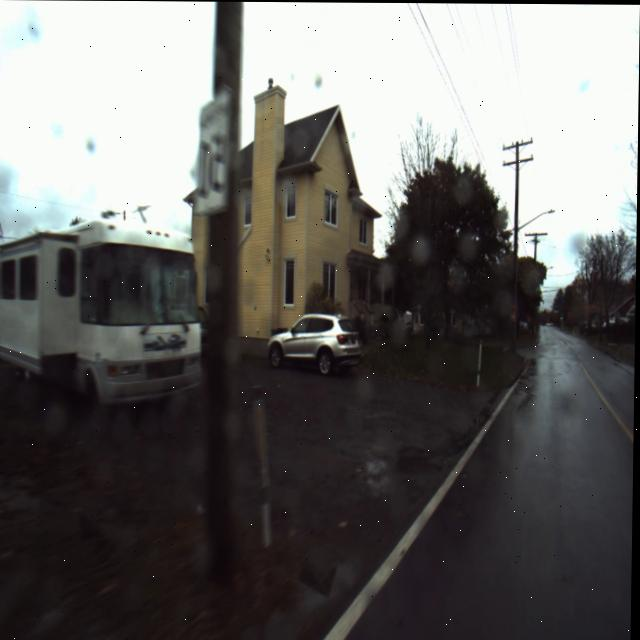car: (266, 296, 366, 383)
